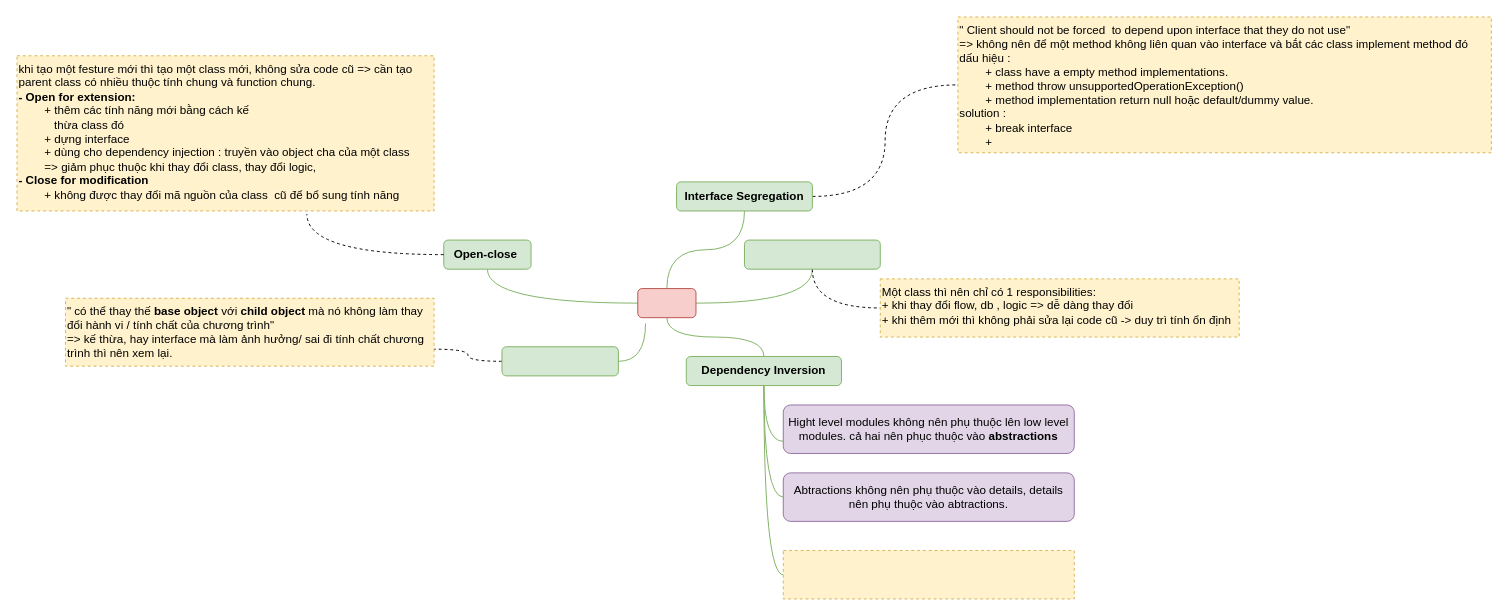
Image size: 1508x616. Some labels were removed from this diagram. The centre of each missing label's shape, as x and y in pixels:
"Giảm phục thuộc giữa các class với nhau => dễ thay đổi" belongs at (x=928, y=574).
"Libkov Substitution" belongs at (x=559, y=361).
"Single responsibility" belongs at (x=812, y=254).
"SOLID" belongs at (x=666, y=303).
